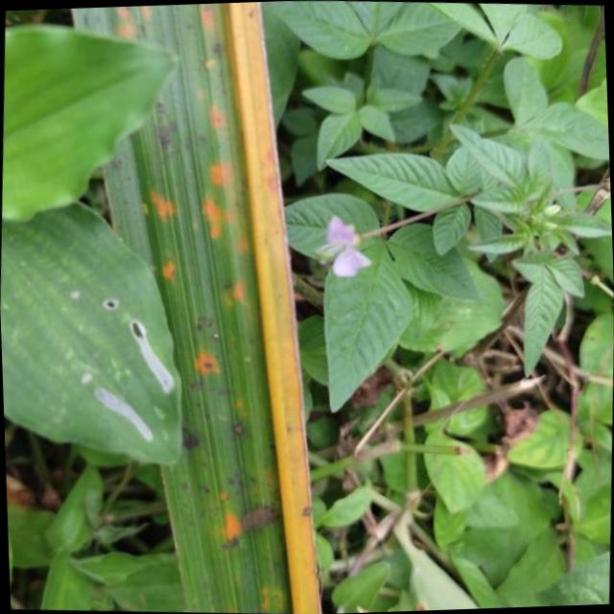Megnesium: (69, 0, 323, 614)
